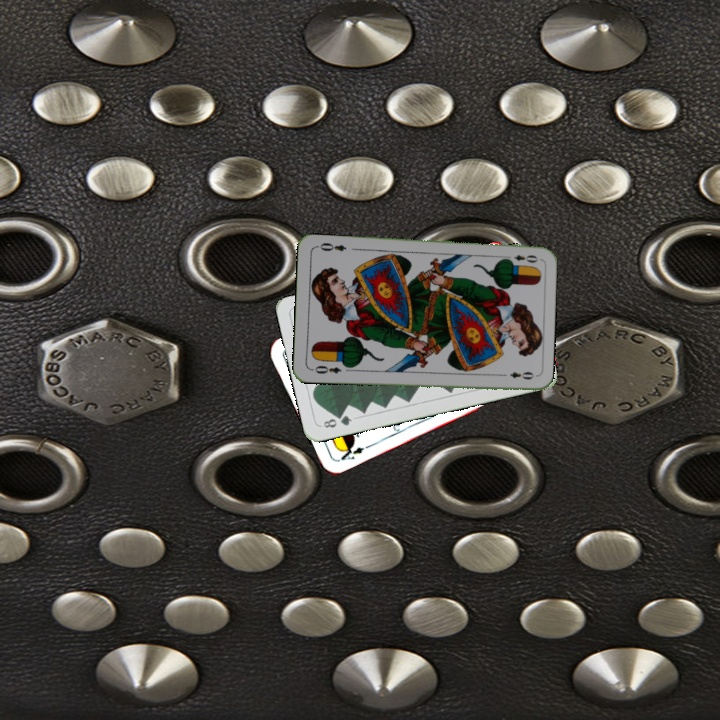EA: (336, 440, 367, 463)
EO: (501, 251, 540, 265), (311, 361, 344, 376)
G8: (319, 411, 355, 431)
